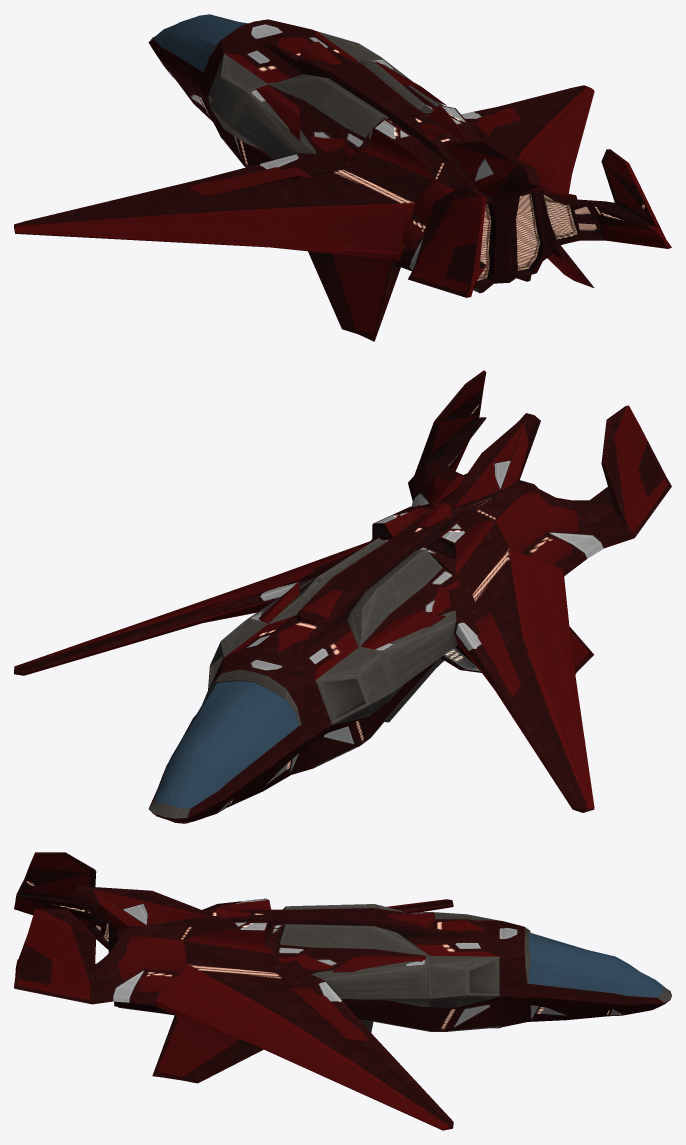
Rendered from custom_1775814032305_spaceship__low_poly.glb.
3 renders of one model, top to bottom at view 1: azimuth 30°, elevation 25°; view 2: azimuth 150°, elevation 25°; view 3: azimuth 270°, elevation 25°, orthographic. The views are drawn at different scales.
Parts seen in each view (by area): view 1: Cube.009; view 2: Cube.009; view 3: Cube.009.
Part boxes in pixels (x1,y1,x2,y2): Cube.009: [14, 14, 671, 341]; Cube.009: [14, 370, 671, 823]; Cube.009: [14, 852, 671, 1130].
Bounding box in the file's own units: 6.46 × 2.08 × 7.85.
Materials: 2 (1 with a texture image).
